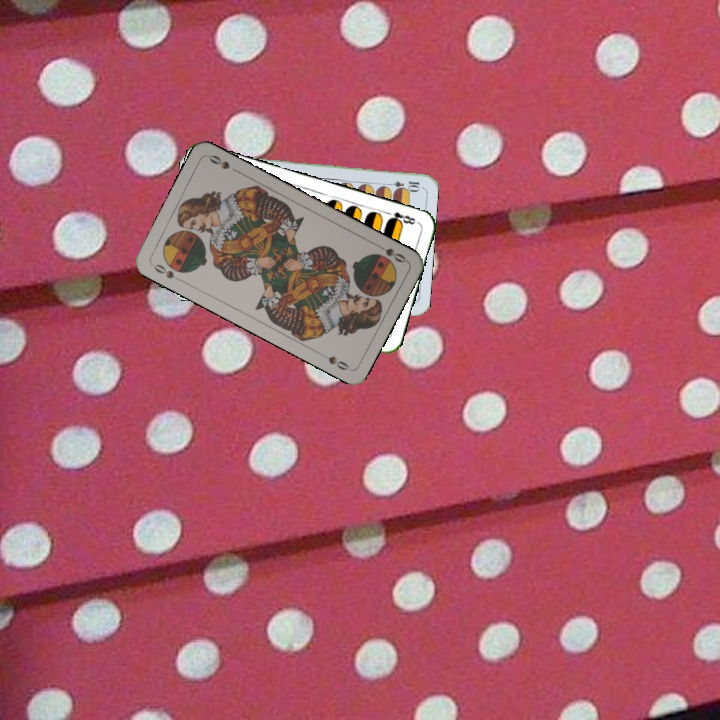E10: (382, 177, 422, 192)
E8: (381, 207, 421, 227)
SO: (372, 240, 409, 265), (148, 260, 185, 285)
